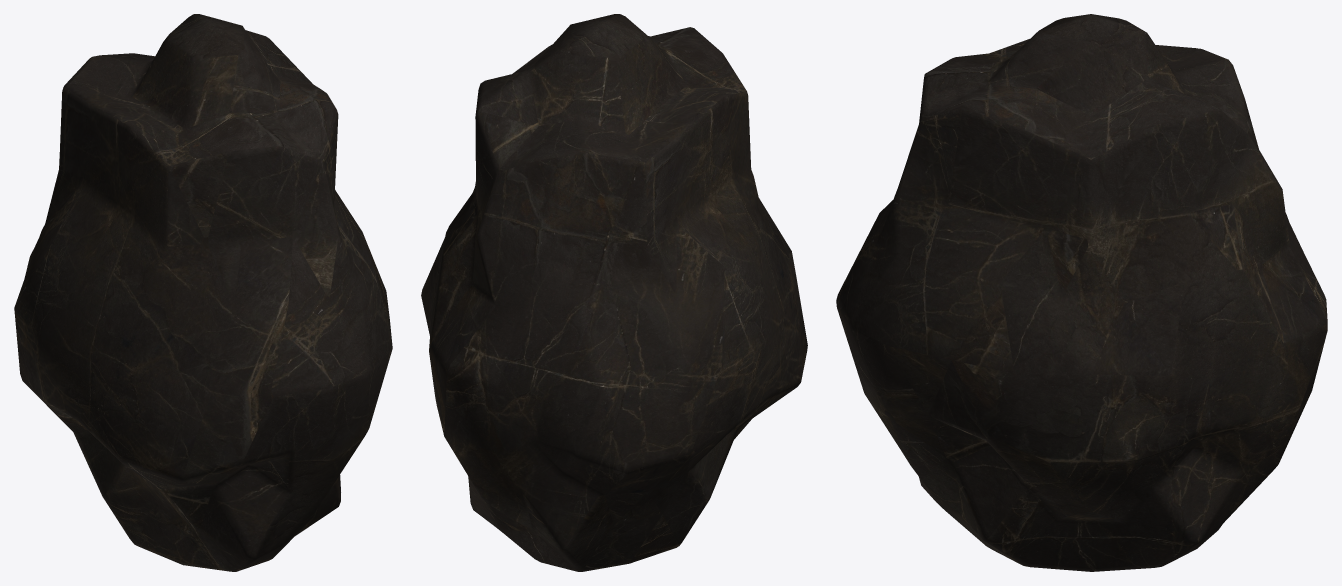
File: ravine_cliff_a.glb
3 renders of one model, left to right at view 1: azimuth 30°, elevation 25°; view 2: azimuth 150°, elevation 25°; view 3: azimuth 270°, elevation 25°, orthographic. The views are drawn at different scales.
Parts seen in each view (by area): view 1: ravine_cliff_a; view 2: ravine_cliff_a; view 3: ravine_cliff_a.
Boxes of the visible parts, bbox=[...] form: ravine_cliff_a: bbox=[14, 14, 392, 571]; ravine_cliff_a: bbox=[421, 14, 807, 571]; ravine_cliff_a: bbox=[836, 14, 1327, 571].
Bounding box in the file's own units: 1.81 × 2.84 × 2.36.
Materials: 1 (1 with a texture image).
